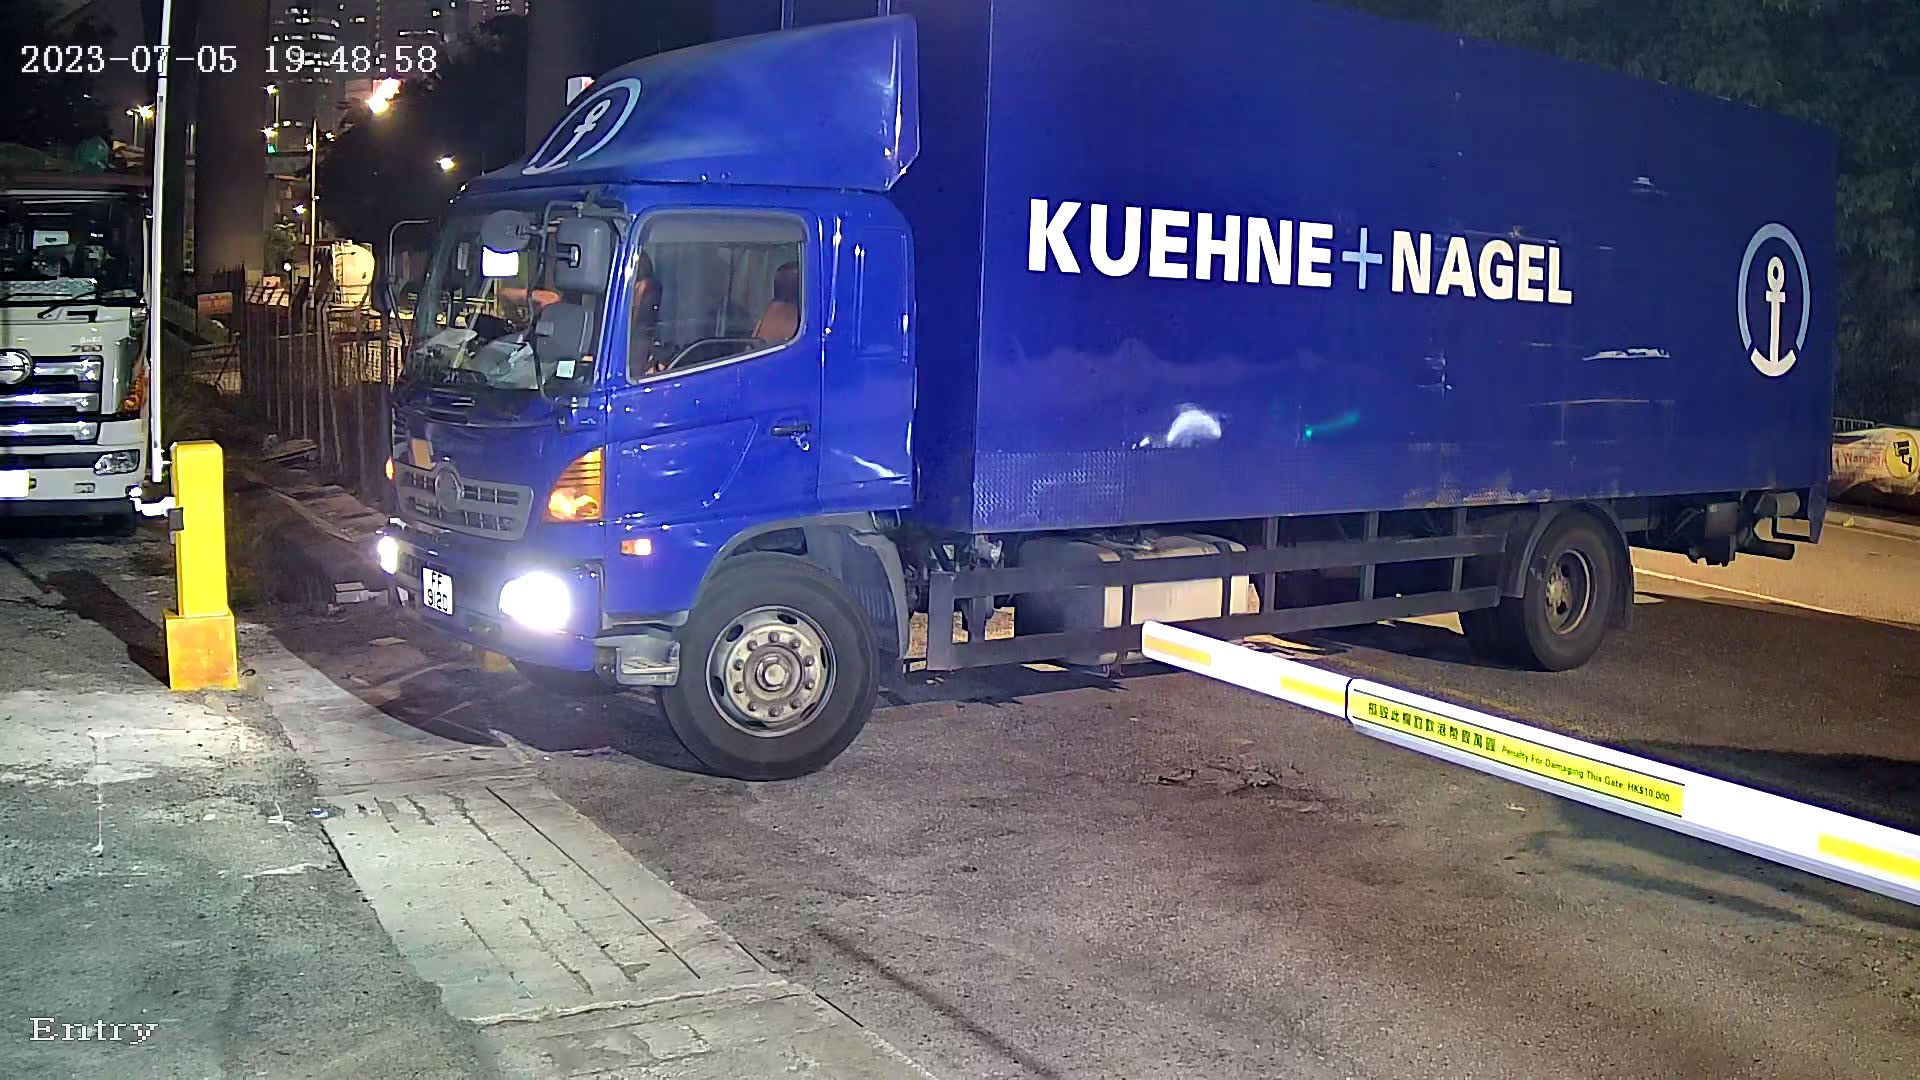truck_large: (320, 1, 1865, 783)
